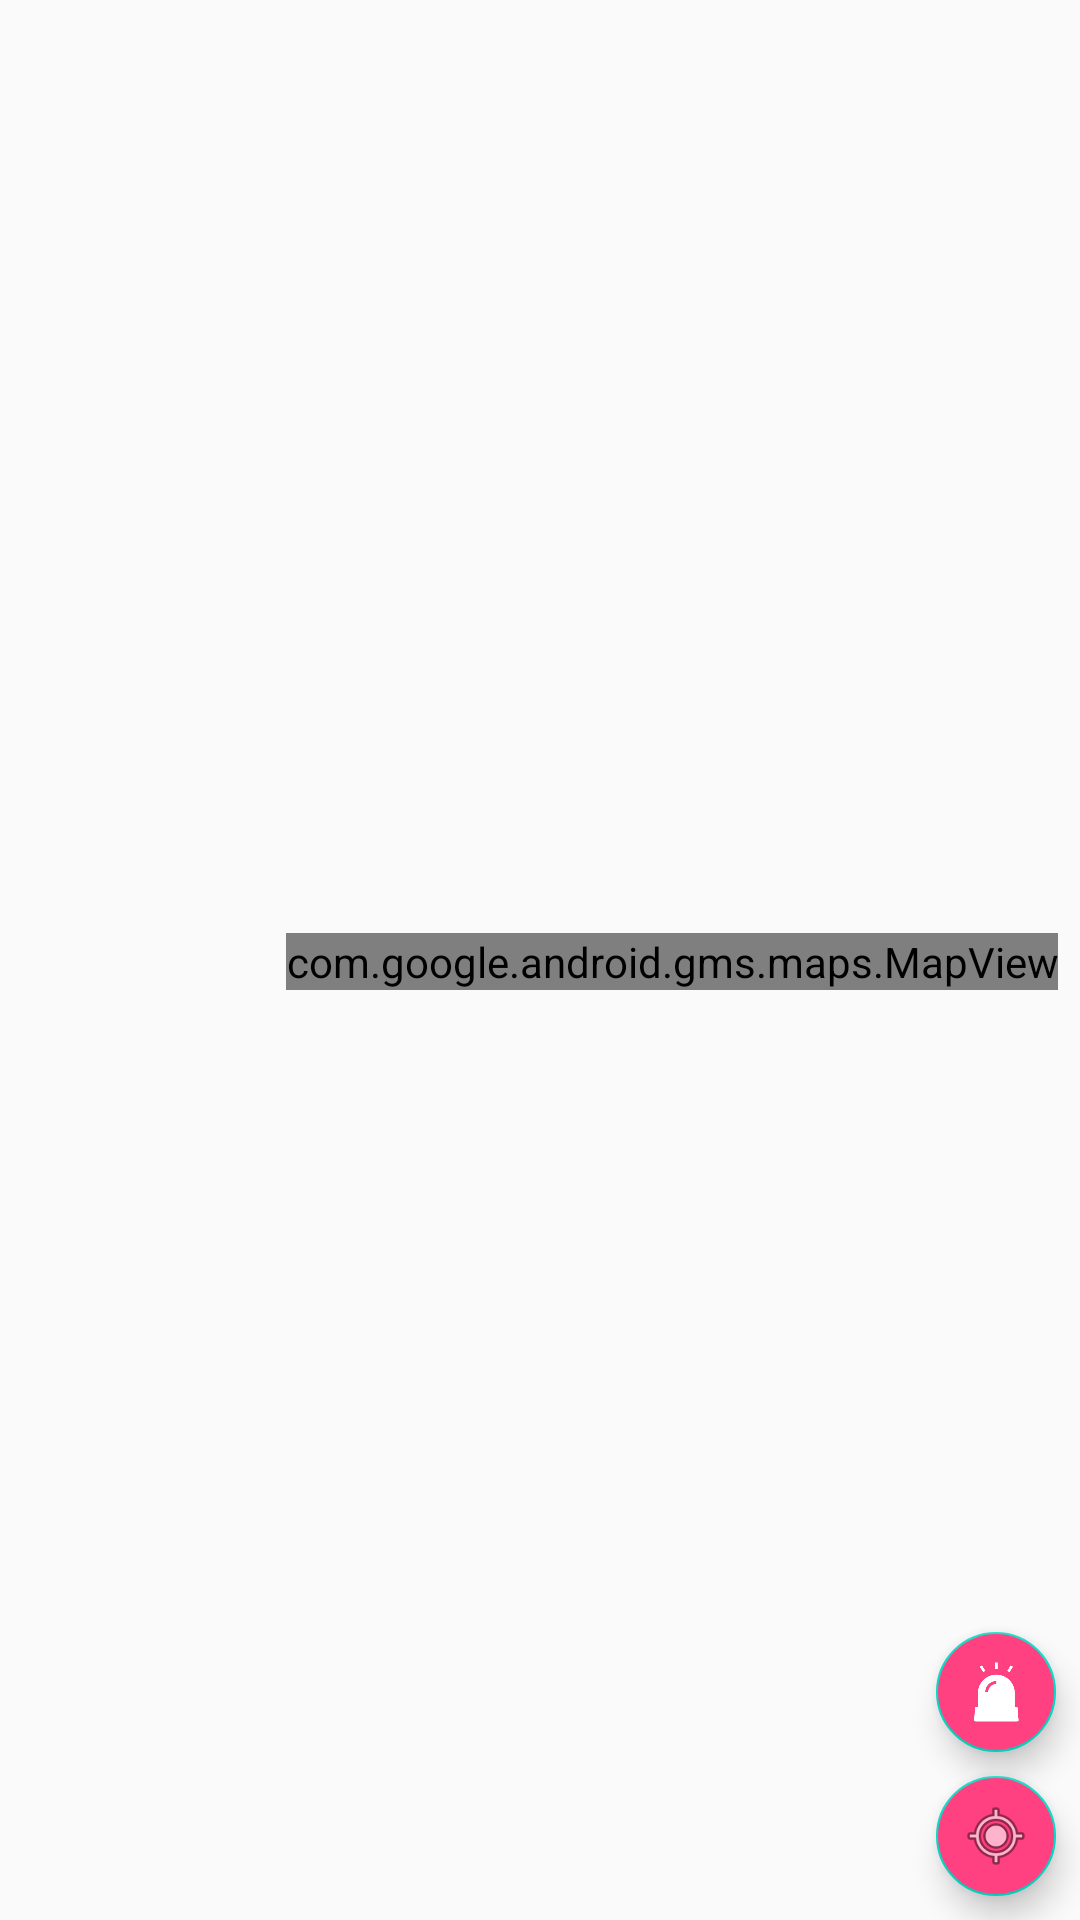

Point at icon controls on the screen. Image size 1080 × 1920, points as (x,y).
mylocation: (996,1836)
siren: (996,1692)
